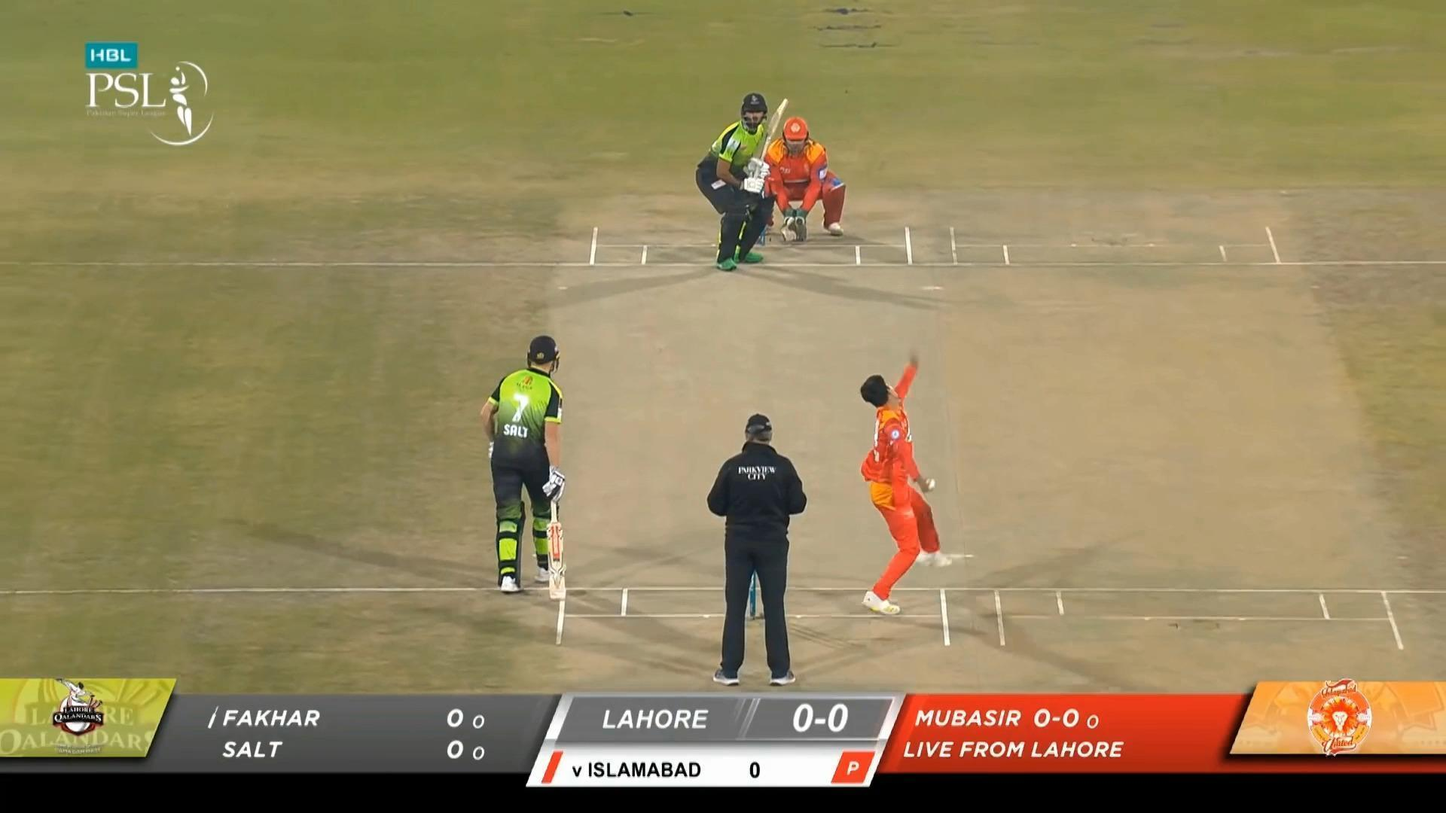BM 1: (694, 91, 790, 273)
BO: (857, 344, 955, 616)
